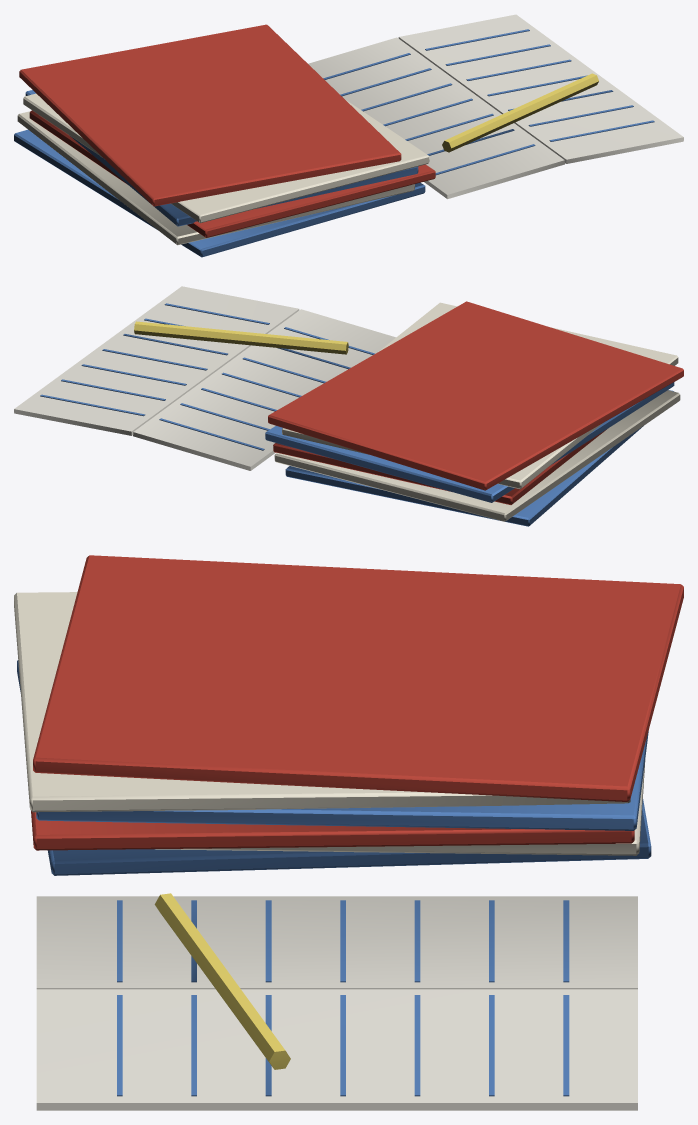
File: exercise_books.glb
3 views of the same model, one above another, from view 1: azimuth 30°, elevation 25°; view 2: azimuth 150°, elevation 25°; view 3: azimuth 270°, elevation 25° (orthographic). The views are drawn at different scales.
Parts seen in each view (by area): view 1: static; view 2: static; view 3: static.
Part boxes in pixels (<box>): static: <box>14,14,683,257</box>; static: <box>14,286,683,526</box>; static: <box>14,555,683,1110</box>.
Bounding box in the file's own units: 0.3735 × 0.0405 × 0.2341.
